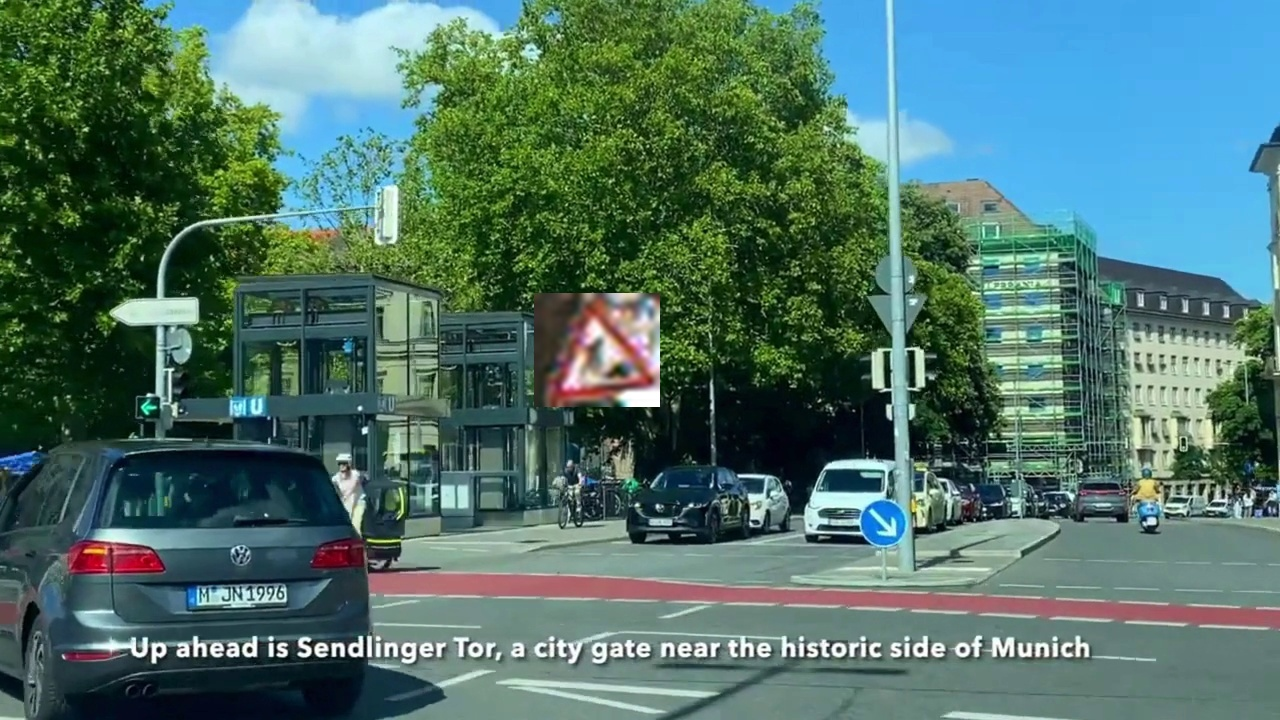Road work: (534, 293, 660, 407)
